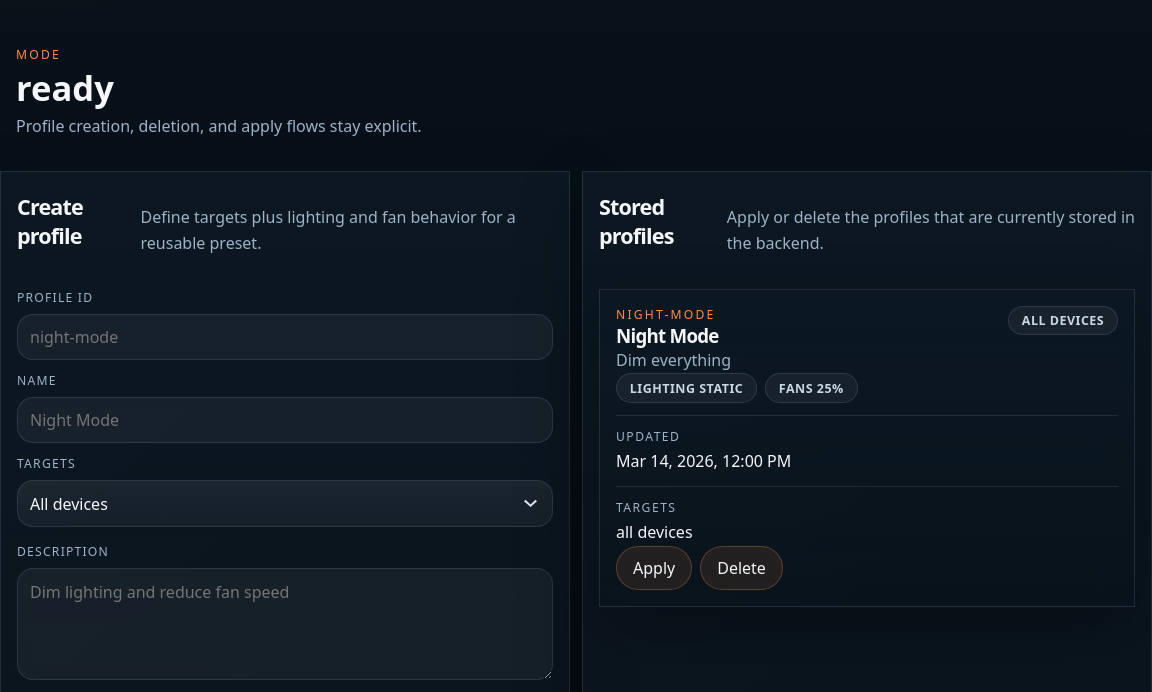
it: ProfilesPage › validates explicit device targets before create
The width and height of the screenshot is (1152, 692).
(page scrolled)
Expected: the heading "Create profile" is shown, x1=17 y1=192 x2=83 y2=250
Type "device-only" into the field with placeholder "night-mode".
click(285, 337); type("device-only")  # box x1=17 y1=314 x2=553 y2=360
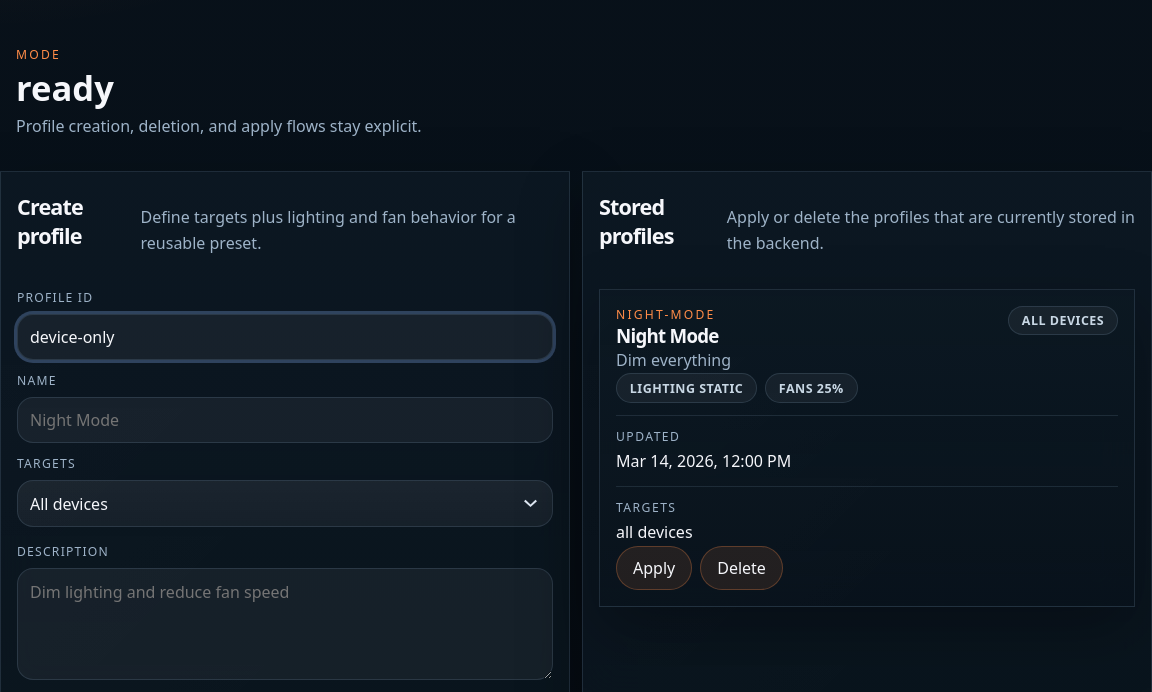
Type "Device Only" into the field with placeholder "Night Mode".
click(285, 420); type("Device Only")  # box x1=17 y1=397 x2=553 y2=443
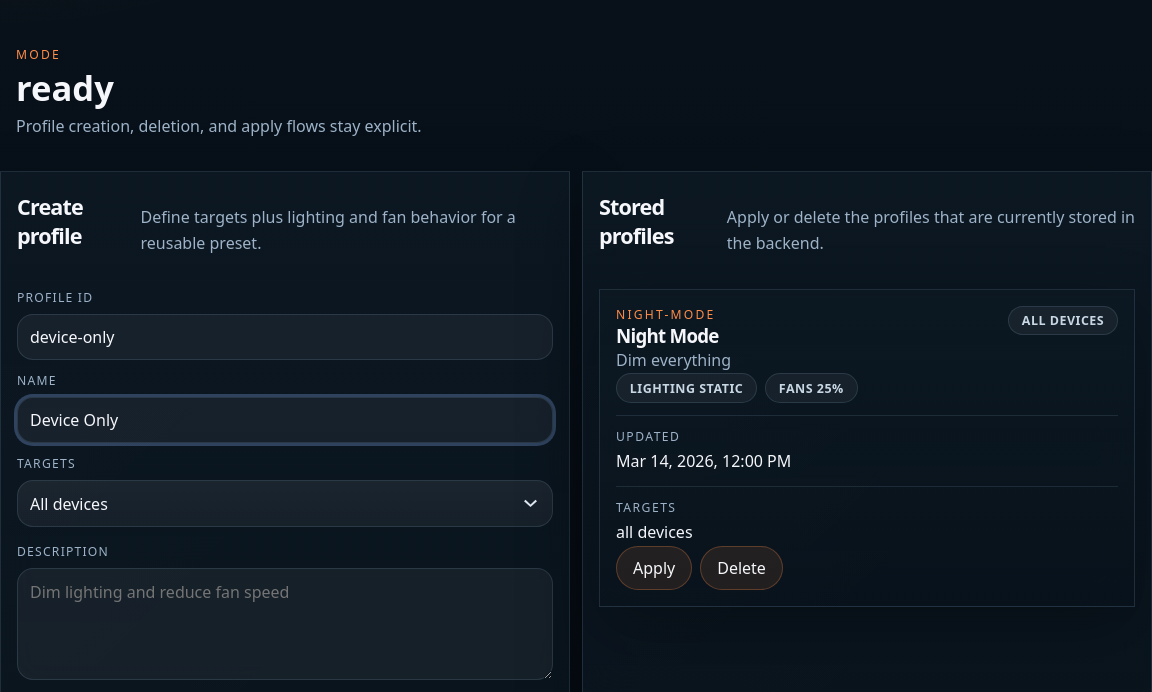
Select "Selected devices" in the dropdown labelled "Targets" at (285, 504), box x1=17 y1=480 x2=553 y2=527
(page scrolled)
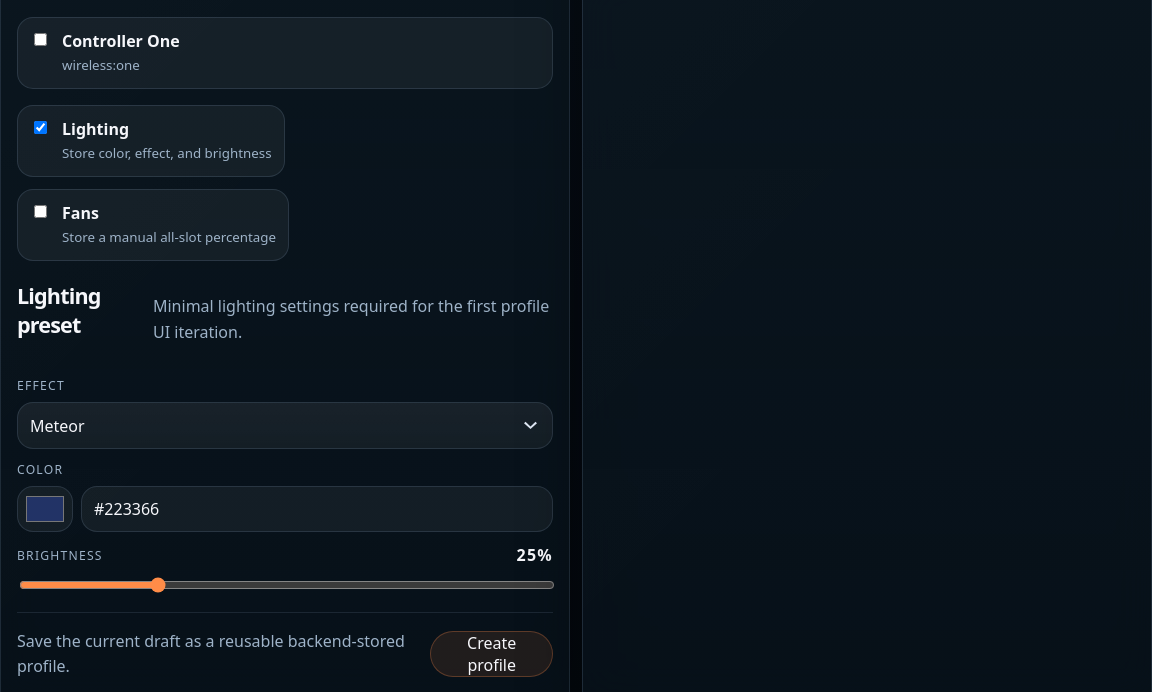
Click the button "Create profile".
click(492, 654)  # box x1=430 y1=631 x2=553 y2=677
(page scrolled)
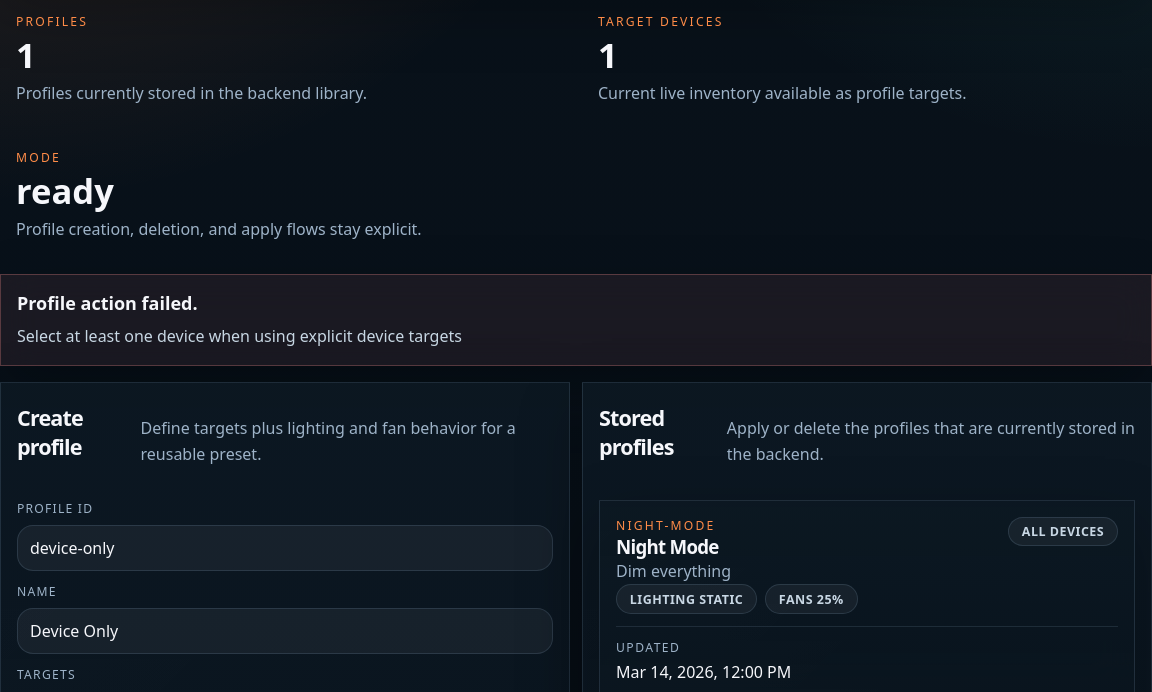
Expected: the text "Select at least one device when using explicit device targets" is shown, x1=17 y1=325 x2=462 y2=347
